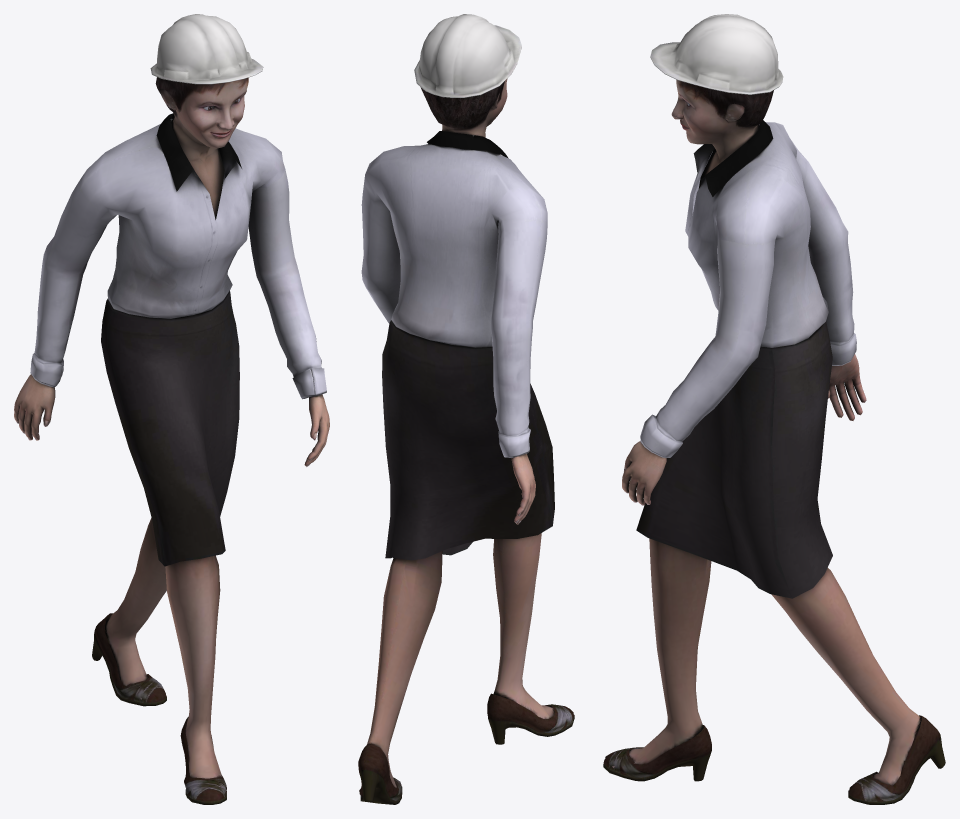
Rendered from SWRK01_07_03.FBX.
3 views of the same model, side by side, from view 1: azimuth 30°, elevation 25°; view 2: azimuth 150°, elevation 25°; view 3: azimuth 270°, elevation 25° (orthographic). The views are drawn at different scales.
Visible parts, largest first — view 1: SWRK01_07_03; view 2: SWRK01_07_03; view 3: SWRK01_07_03.
Part boxes in pixels (box(x1,y1,x2,y2)): SWRK01_07_03: box(14, 14, 329, 804); SWRK01_07_03: box(358, 14, 574, 804); SWRK01_07_03: box(603, 14, 945, 804).
Bounding box in the file's own units: 21.36 × 67.35 × 27.01.
